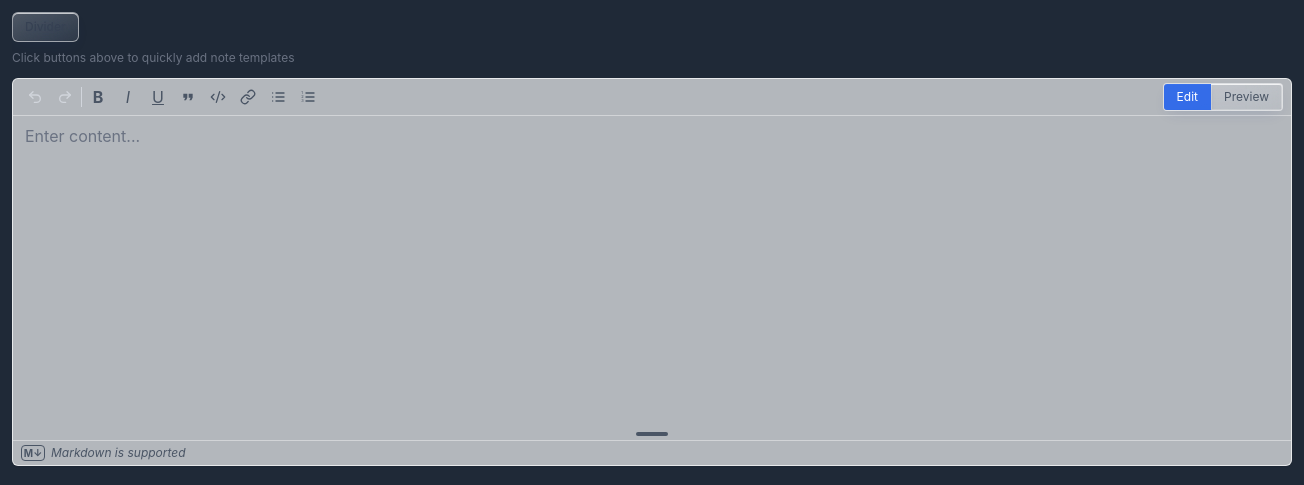
Test: MarkdownEditorField template buttons › appends to empty content before a caret is placed
The image size is (1304, 485).
Click the button "Divider".
click(45, 27)  # box [12, 12, 79, 42]
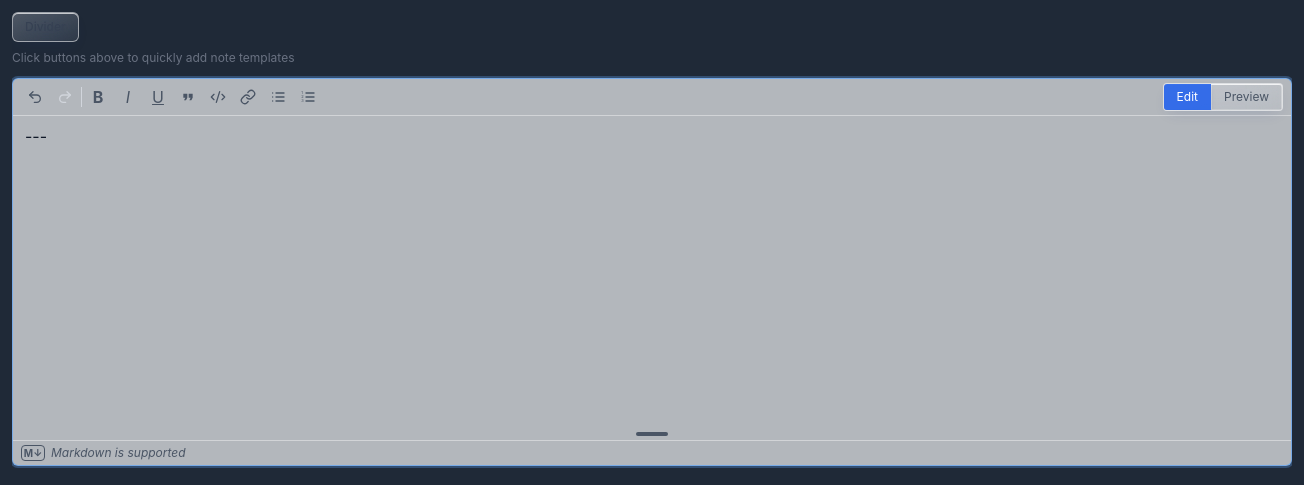
Check: the text box holds "---"
